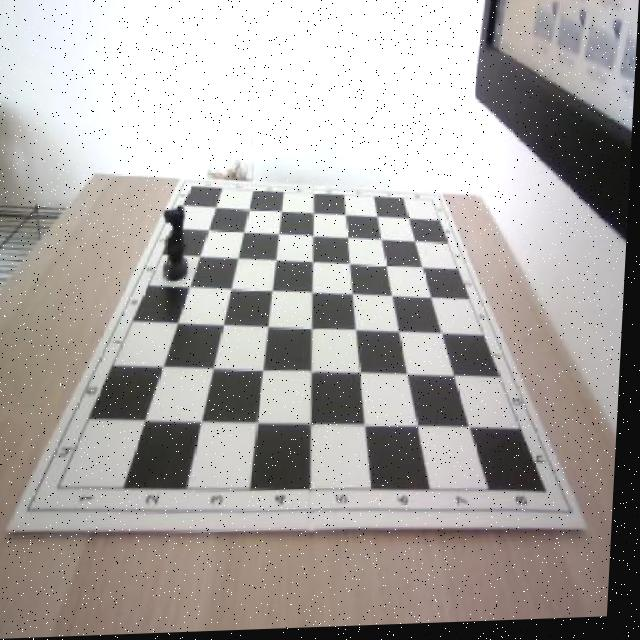black-king: (160, 208, 196, 284)
